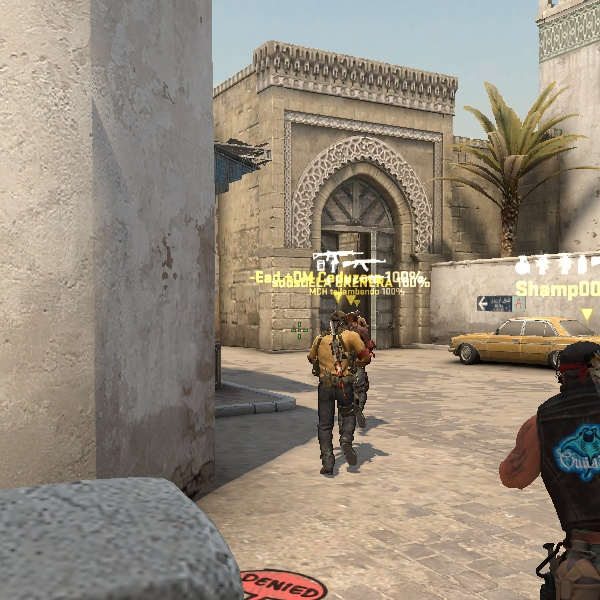t_body: (289, 307, 390, 480)
t_head: (335, 307, 368, 341)
